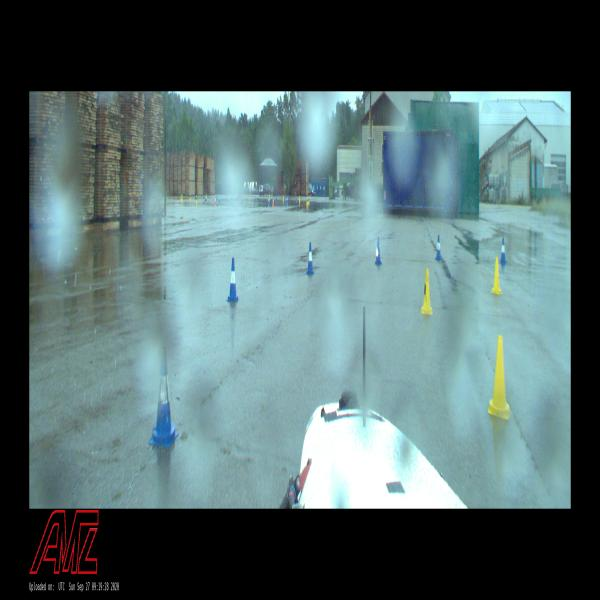blue_cone: (149, 347, 179, 448), (227, 258, 239, 302), (306, 242, 315, 275), (374, 237, 382, 265), (500, 238, 507, 264), (435, 235, 442, 260)
yellow_cone: (488, 336, 510, 419), (421, 269, 433, 314), (491, 257, 502, 294), (308, 196, 310, 204), (196, 195, 198, 203), (181, 194, 183, 202), (189, 194, 191, 200), (307, 198, 308, 204)
